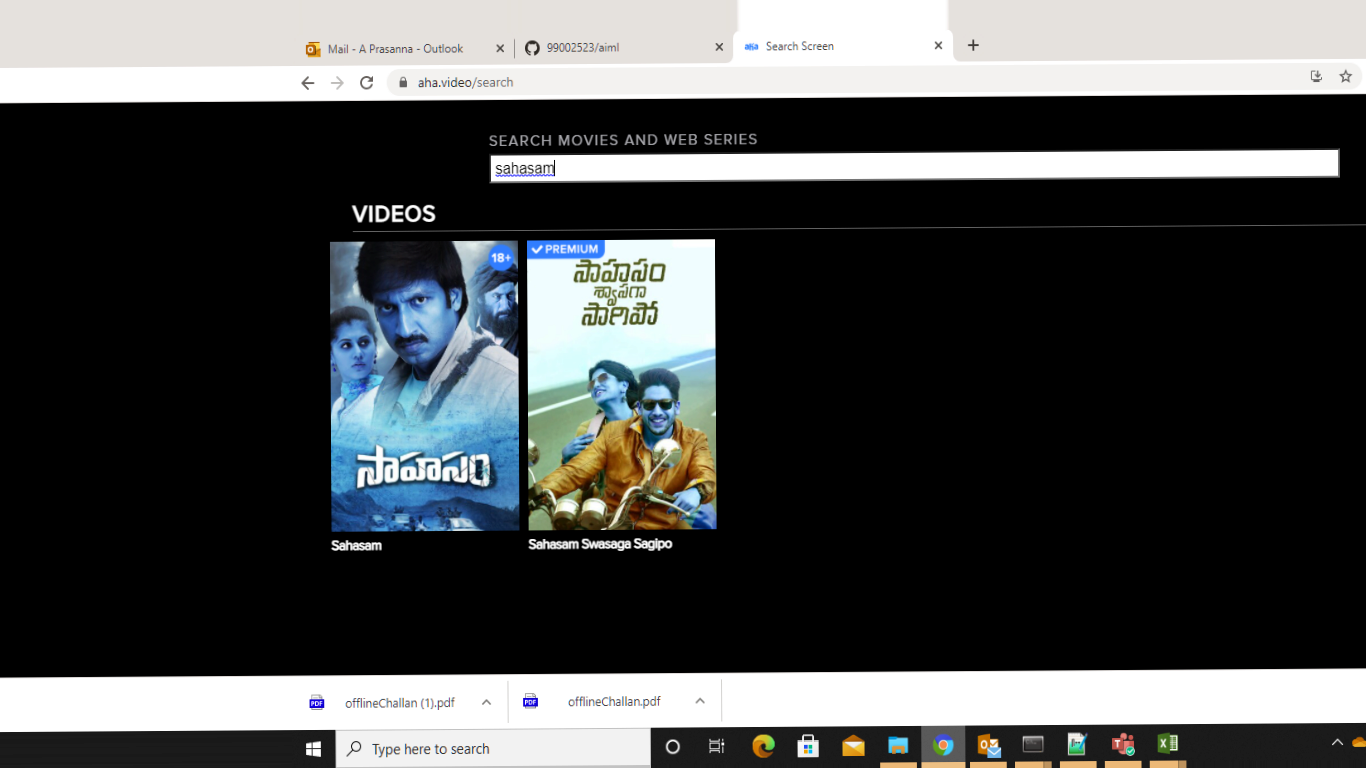resultsfound: (345, 178, 1344, 223)
searchtextbox: (484, 128, 1348, 190)
